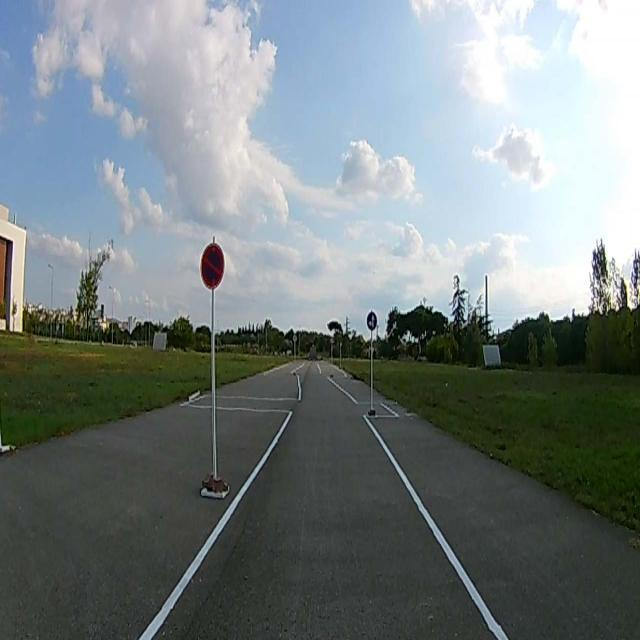parkyasak: (199, 243, 223, 287)
